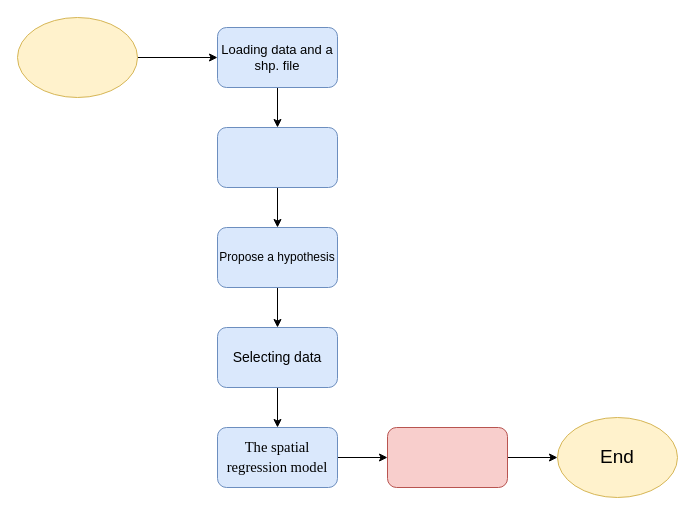
Some shapes in this 695 by 515 pixel diagram are drawn without their labels. The centre of each missing label's shape, as x and y in pixels:
Descriptive Statistics: (277,157)
Discussion and Summary: (447,457)
Stra t: (77,57)
